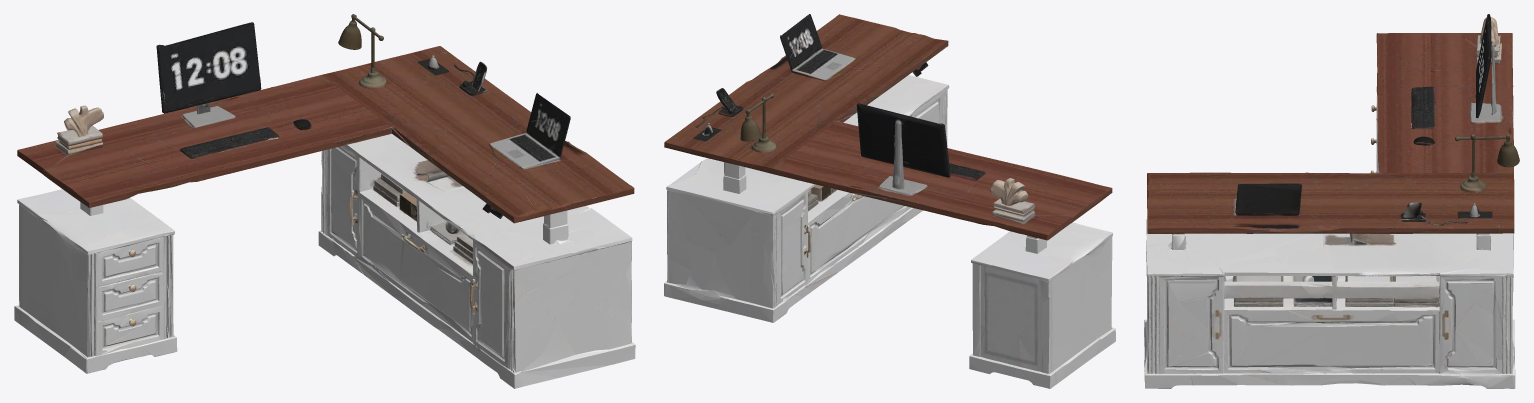
File: wayfair-com-furniture-pdp-red-barrel-studio-l-shaped-executi-ae73e2.glb
3 renders of one model, left to right at view 1: azimuth 30°, elevation 25°; view 2: azimuth 150°, elevation 25°; view 3: azimuth 270°, elevation 25°, orthographic. The views are drawn at different scales.
Visible parts, largest first — view 1: Mesh_0; view 2: Mesh_0; view 3: Mesh_0.
Part boxes in pixels (x1,y1,x2,y2): Mesh_0: (14,14,635,388); Mesh_0: (664,14,1115,388); Mesh_0: (1144,14,1519,388).
Size of the model in its own units: 1.9 by 1.08 by 1.53.
1 material, 1 textured.
